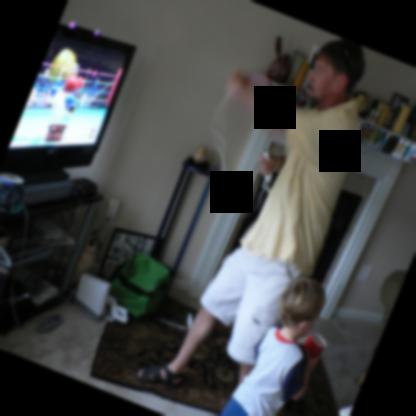suitcase: (108, 250, 173, 316)
